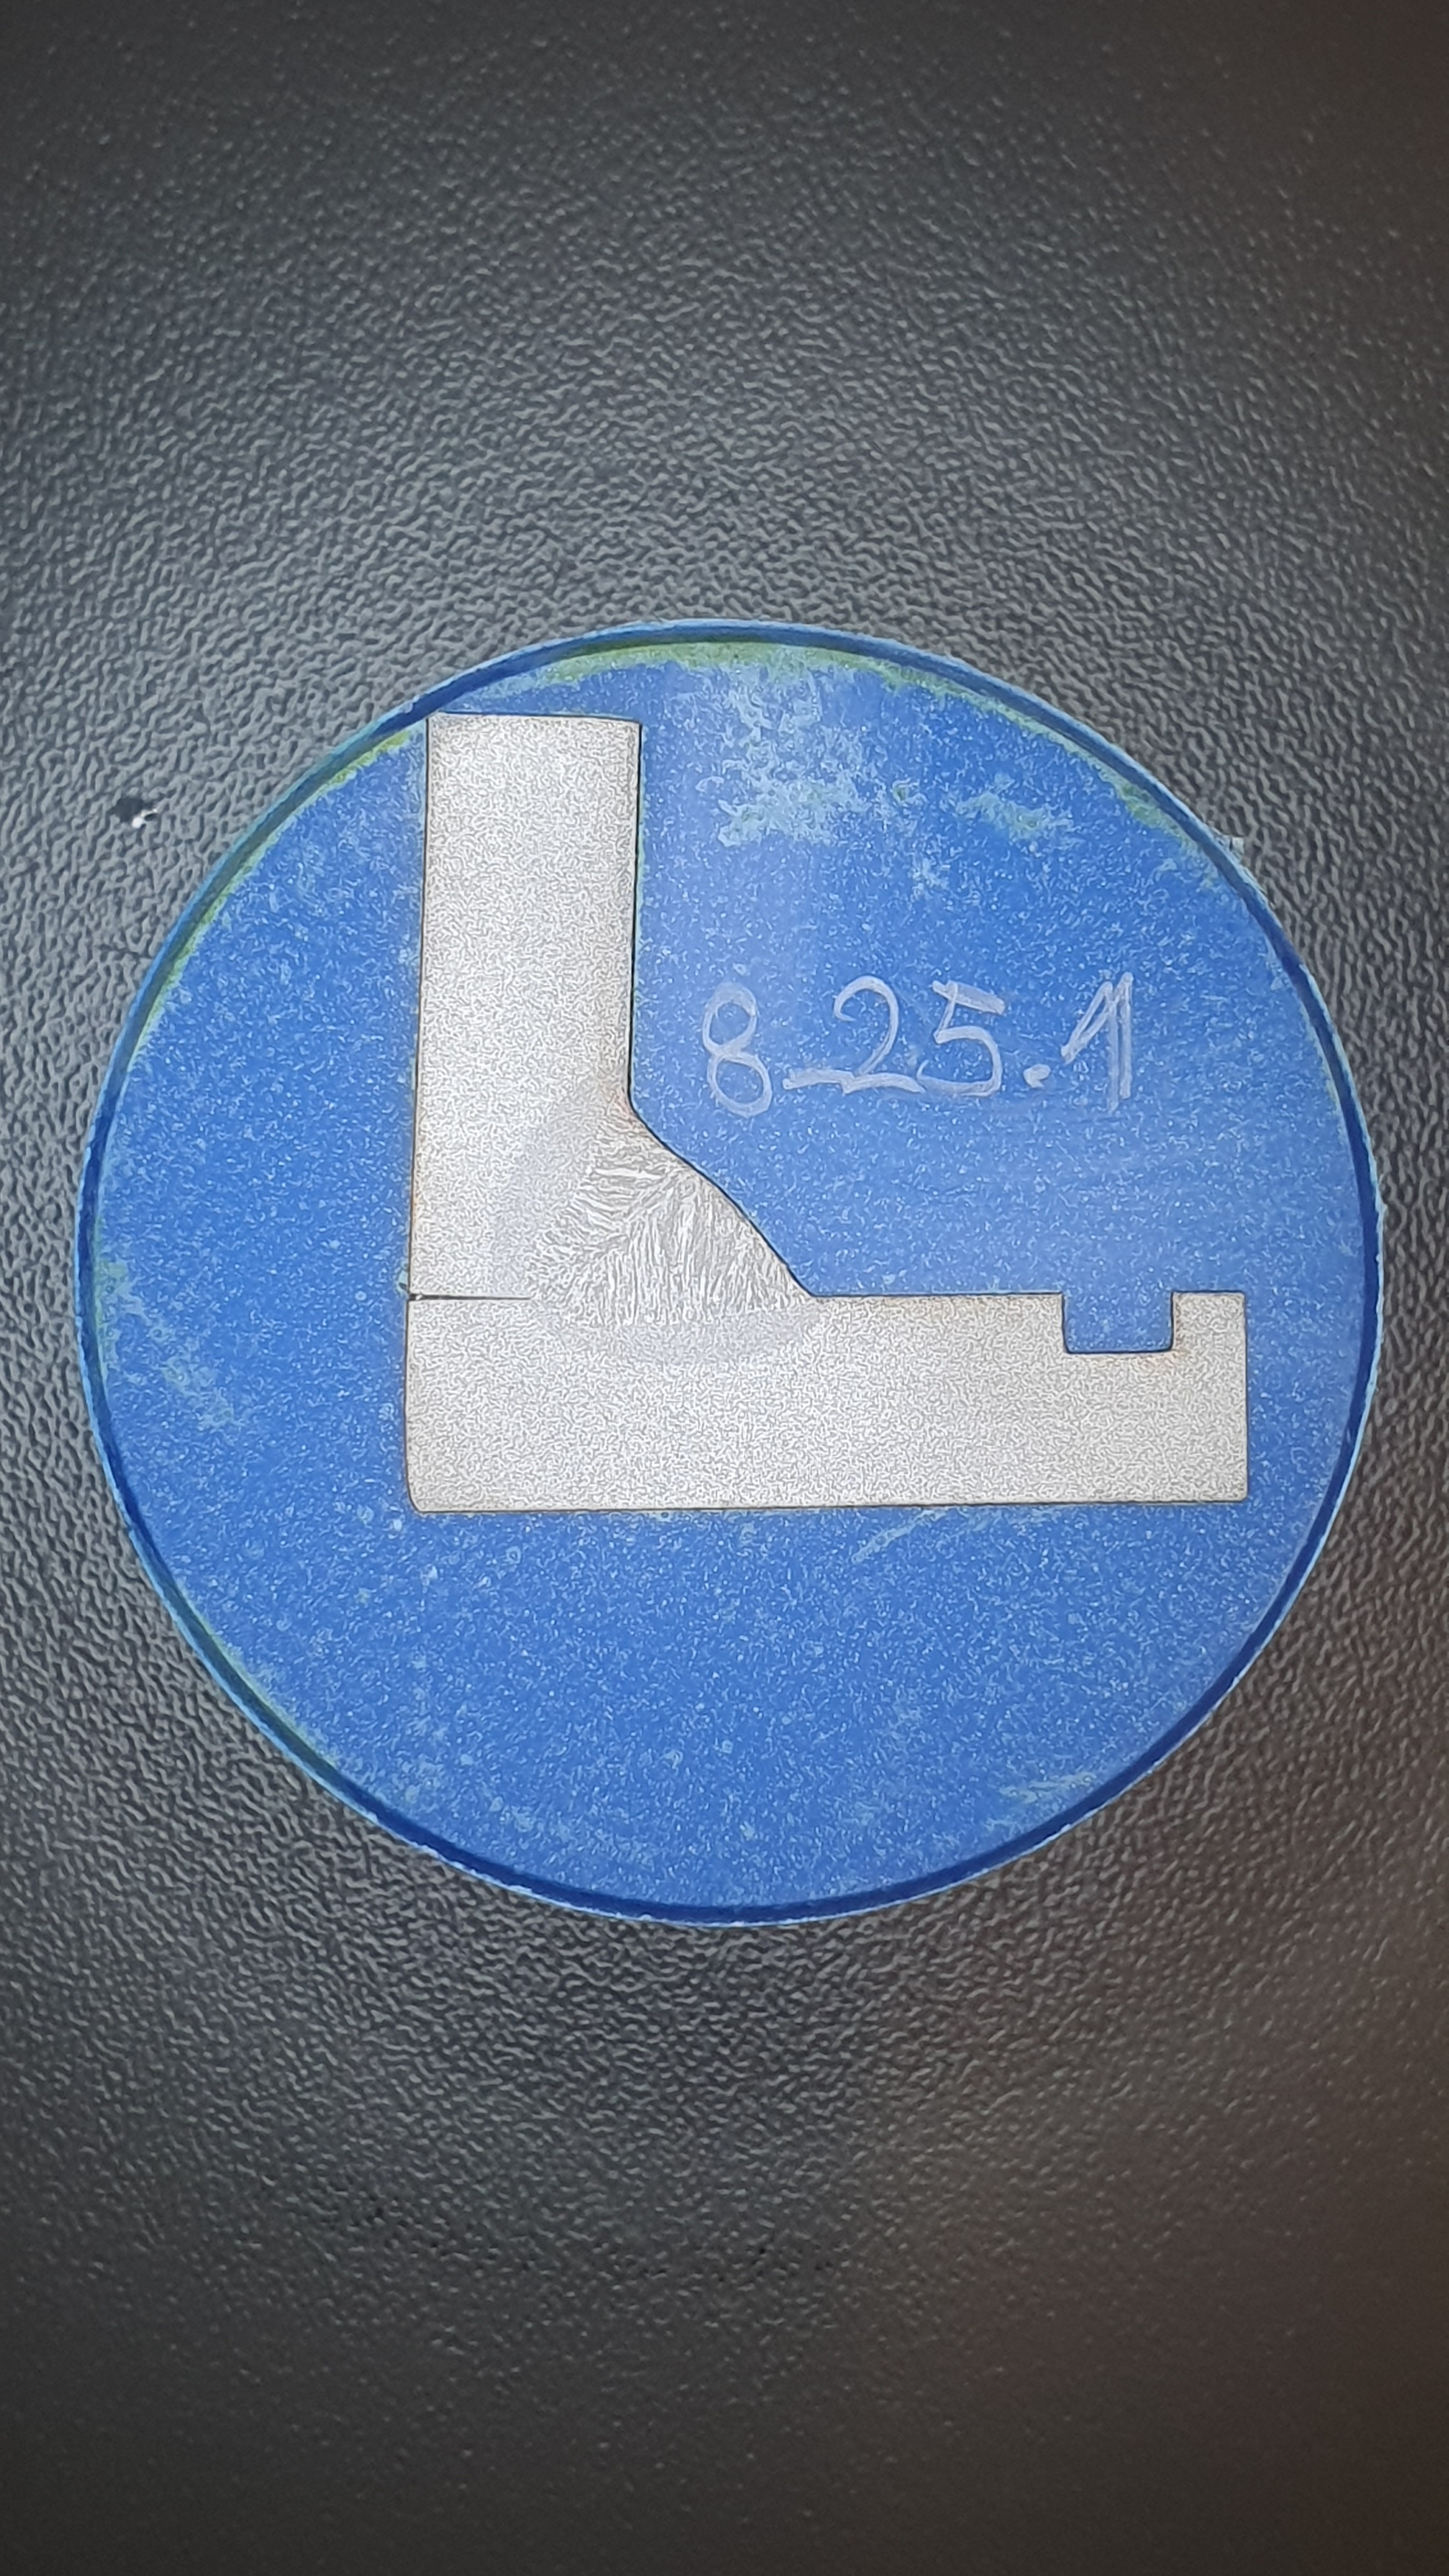Fusion: (524, 1083, 809, 1327)
Hintergrund: (92, 640, 1362, 1905)
Metall: (405, 711, 1249, 1513)
Nebenbereich: (494, 1051, 821, 1369)
